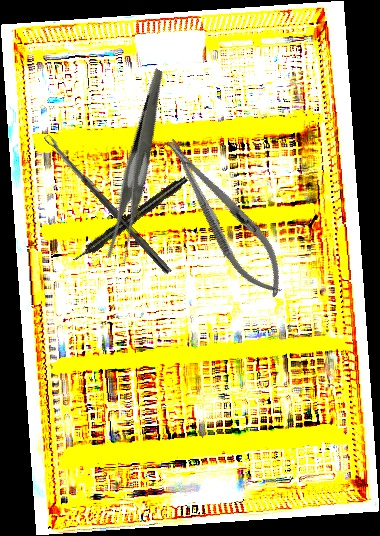Dressing Forceps: (60, 68, 220, 266)
Handpiece: (70, 173, 190, 266)
Needle Holder: (151, 126, 299, 307)
Surgical Spoon: (43, 132, 173, 276)
